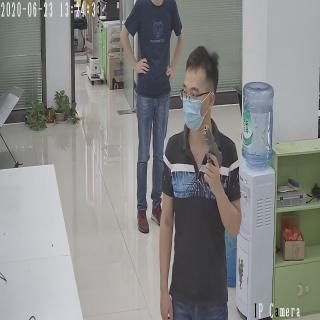gun: (202, 123, 224, 189)
